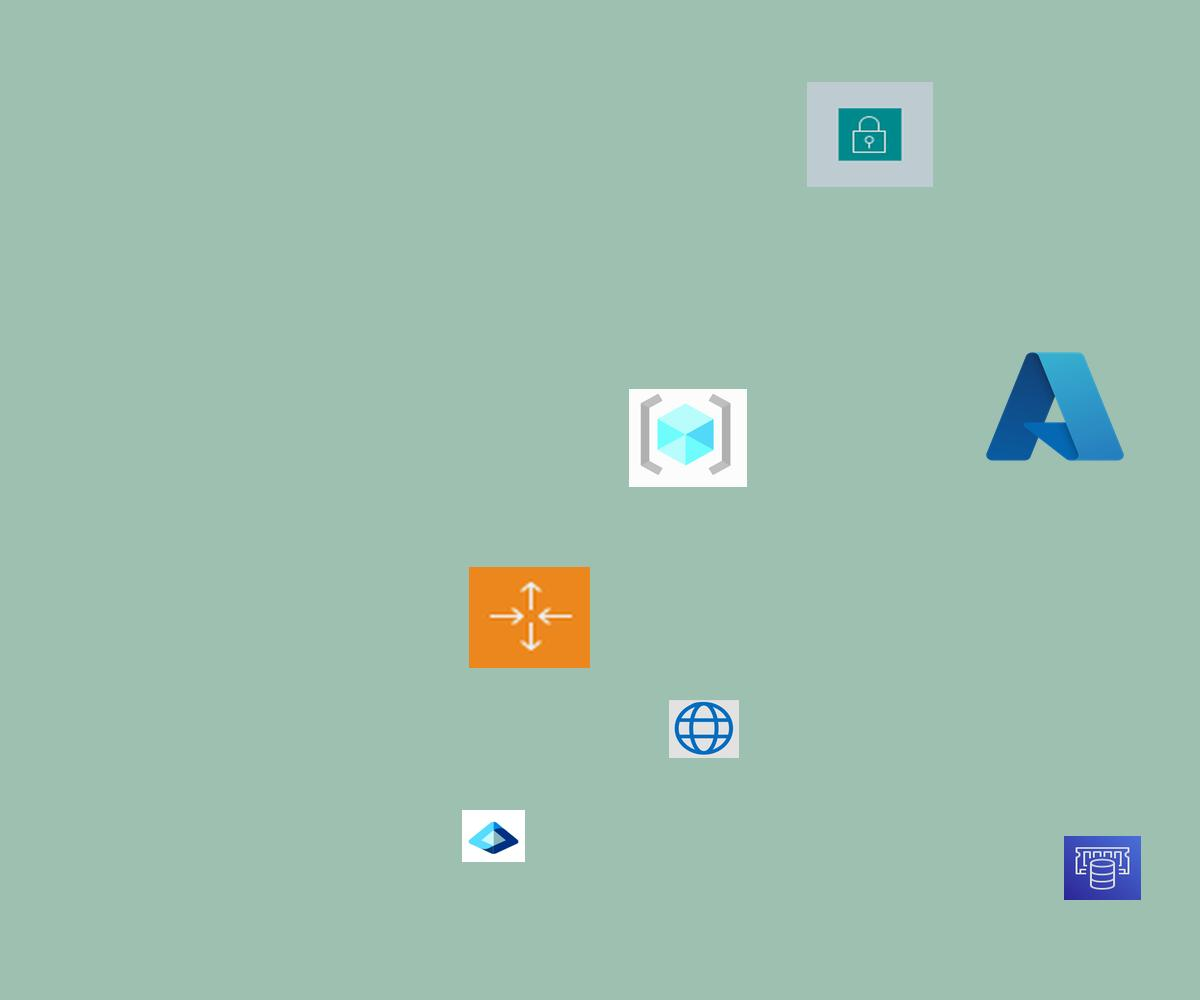AWS-ElastiCache: (1064, 836, 1141, 900)
AWS-Private-subnet: (807, 82, 933, 187)
AWS-Scaling-group: (469, 567, 590, 668)
Azure_http: (669, 700, 739, 758)
Azure_microsoft_entra: (462, 810, 525, 862)
Azure_resource_group: (629, 389, 747, 487)
Azure_services: (980, 344, 1130, 469)
